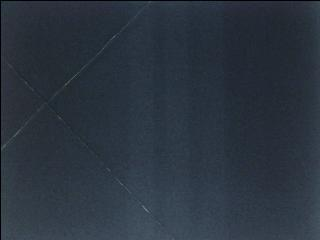crack: (0, 55, 175, 240), (6, 6, 155, 151)
